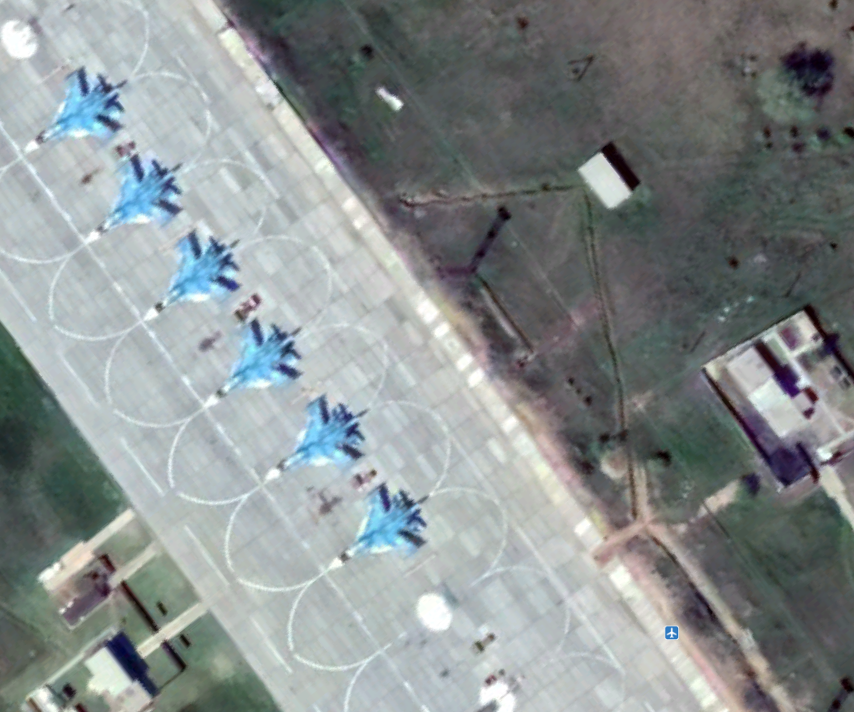A19: (133, 227, 253, 330), (185, 317, 305, 420), (255, 388, 375, 491), (316, 476, 436, 579), (17, 66, 129, 161), (75, 157, 187, 252)
